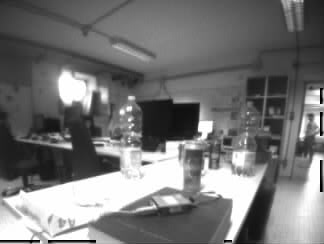Bottle: (119, 95, 144, 178), (233, 102, 257, 175)
Tin can: (183, 144, 201, 193), (209, 139, 220, 169)
